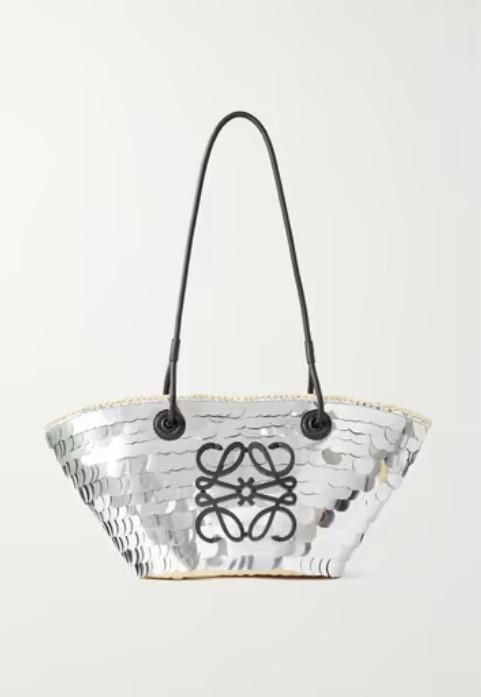LOEWE: (189, 431, 304, 551)
